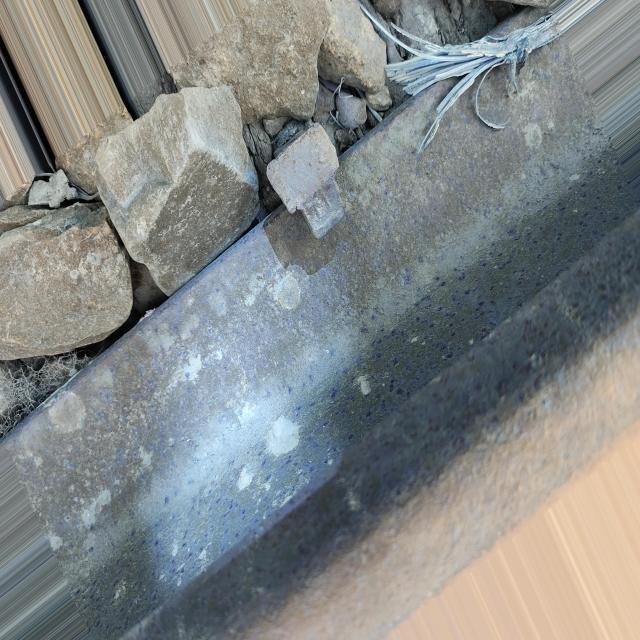Good Fasteners: (266, 124, 343, 238)
